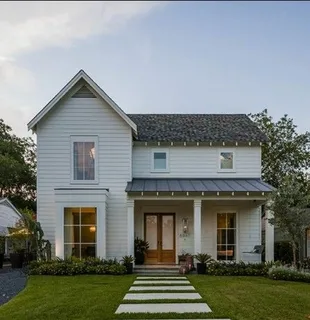private_hause: (28, 85, 275, 265)
